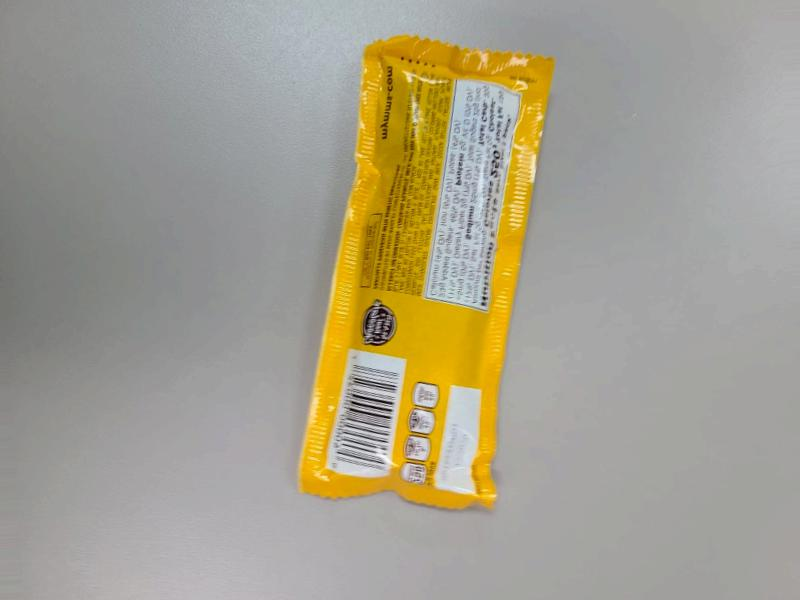m&m: (386, 9, 573, 530)
